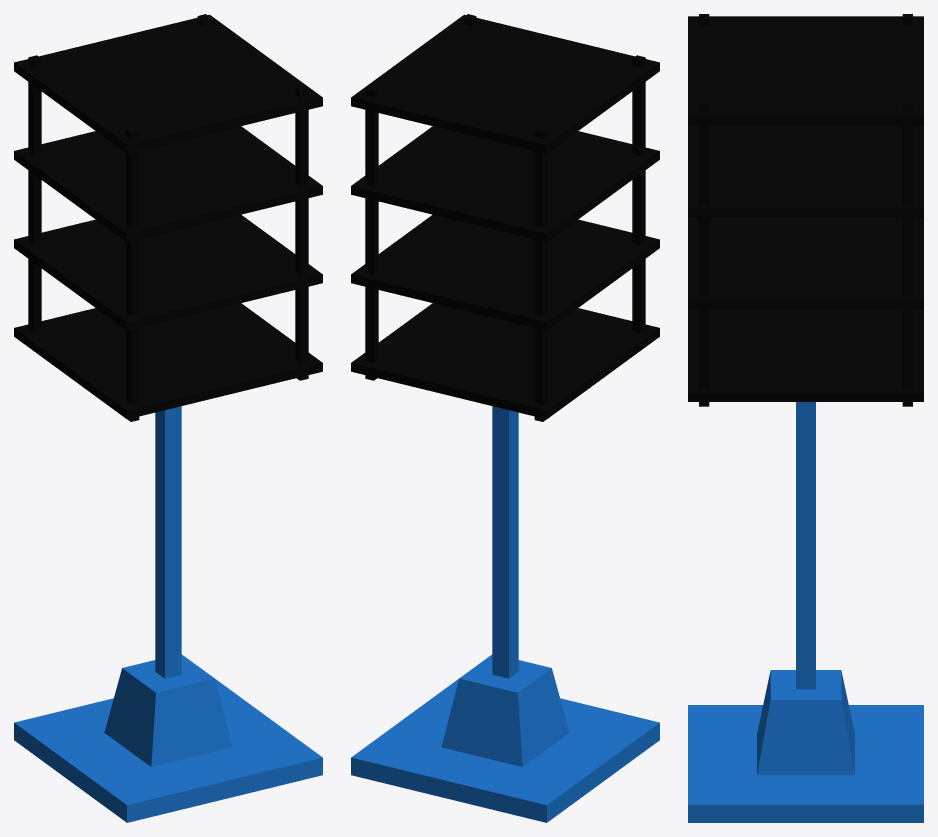
The model's file is SM_floor_stand_1.fbx.
3 renders of one model, left to right at view 1: azimuth 30°, elevation 25°; view 2: azimuth 150°, elevation 25°; view 3: azimuth 270°, elevation 25°, orthographic. The views are drawn at different scales.
Visible parts, largest first — view 1: Cube_29; view 2: Cube_29; view 3: Cube_29.
Part boxes in pixels (x1=…): Cube_29: x1=14, y1=14, x2=322, y2=822; Cube_29: x1=351, y1=14, x2=659, y2=822; Cube_29: x1=688, y1=14, x2=923, y2=822.
Size of the model in its own units: 46.3 by 155 by 46.3.
